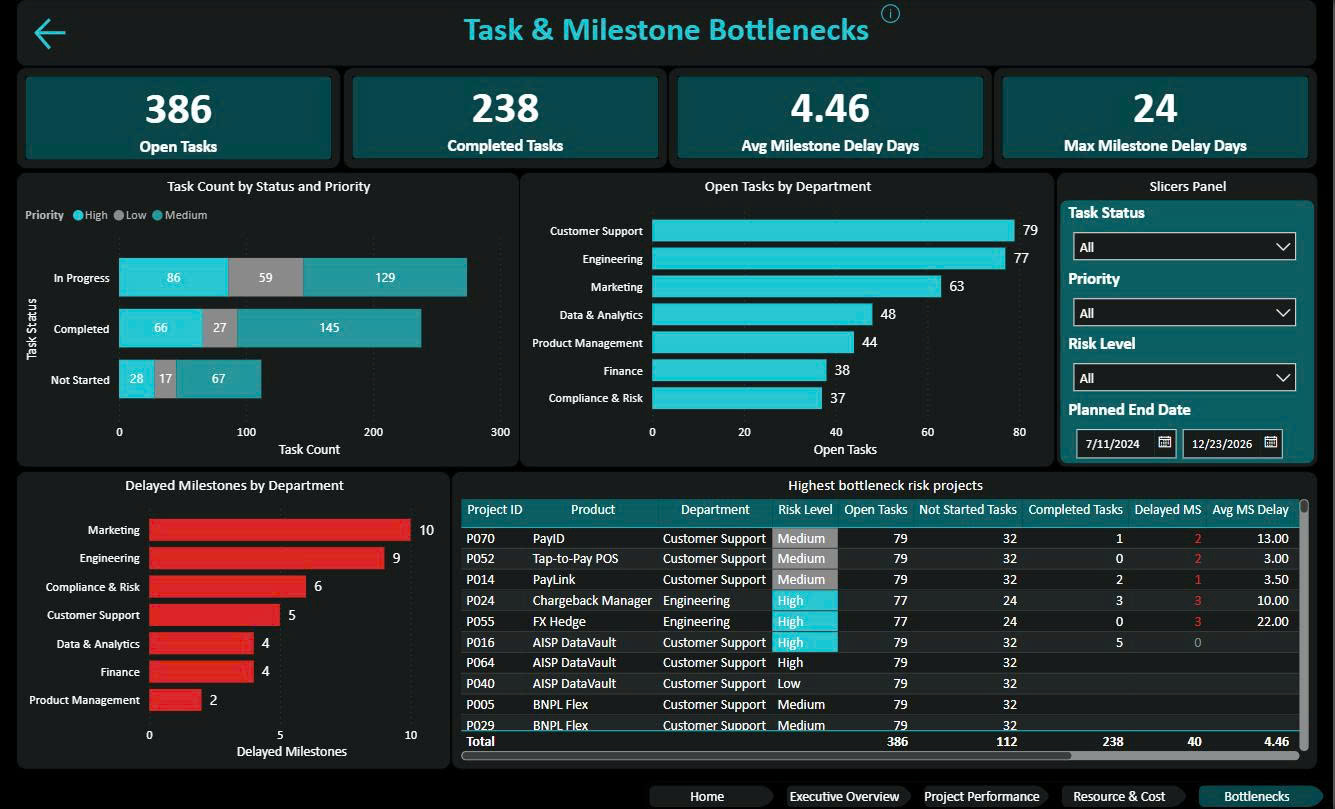

The dashboard page shown, as its layout file describes it:
{"tool":"powerbi","page":{"name":"Bottlenecks","canvas":[1280,780],"ordinal":4},"visuals":[{"type":"textbox","box":[15.6,0,1249.8,65.2],"z":0},{"type":"cardVisual","fields":{"Data":["KPI_Measures.Open Tasks"]},"box":[15.6,65.2,312,98.2],"z":1000},{"type":"cardVisual","fields":{"Data":["KPI_Measures.Completed Tasks"]},"box":[329.1,65,312,98],"z":2000},{"type":"cardVisual","fields":{"Data":["KPI_Measures.Avg Milestone Delay Days"]},"box":[642.1,65,312,98],"z":3000},{"type":"cardVisual","fields":{"Data":["KPI_Measures.Max Milestone Delay Days"]},"box":[954.1,65,312,98],"z":4000},{"type":"barChart","title":"Task Count by Status and Priority","fields":{"Category":["fact_task_performance.task_status"],"Y":["KPI_Measures.Total Tasks"],"Series":["fact_task_performance.priority"]},"box":[15,166,484,284],"z":5000},{"type":"barChart","title":"Open Tasks by Department","fields":{"Category":["dim_department.department_name"],"Y":["KPI_Measures.Open Tasks"]},"box":[499,166,515,284],"z":6000},{"type":"barChart","title":"Delayed Milestones by Department","fields":{"Category":["dim_department.department_name"],"Y":["KPI_Measures.Delayed Milestones"]},"box":[15,453,418,287],"z":7000},{"type":"tableEx","title":"Highest bottleneck risk projects","fields":{"Values":["dim_project.project_id","dim_project.product_name","dim_department.department_name","dim_project.risk_level","KPI_Measures.Open Tasks","KPI_Measures.Not Started Tasks","KPI_Measures.Completed Tasks","KPI_Measures.Delayed Milestones","KPI_Measures.Avg Milestone Delay Days","KPI_Measures.Max Milestone Delay Days","KPI_Measures.Task Hour Variance","KPI_Measures.Bottleneck Score"]},"box":[433,453,833,287],"z":8000},{"type":"shape","title":"Slicers Panel","box":[1014,166,252,284],"z":9000},{"type":"slicer","title":"Task Status","fields":{"Values":["fact_task_performance.task_status"]},"box":[1021,195.4,234.3,62.8],"z":10000},{"type":"slicer","title":"Priority","fields":{"Values":["fact_task_performance.priority"]},"box":[1021,258.3,234.3,62.8],"z":11000},{"type":"slicer","title":"Risk Level","fields":{"Values":["dim_project.risk_level"]},"box":[1021,321.1,234.3,62.8],"z":12000},{"type":"slicer","title":"Planned End Date","fields":{"Values":["dim_project.planned_end_date"]},"box":[1021,384,234.3,62.8],"z":13000},{"type":"pageNavigator","box":[620,751,660,29],"z":14000},{"type":"actionButton","box":[29,13,121,40],"z":15000},{"type":"actionButton","title":"BTN Info Open","box":[841,0,28,28],"z":16000}]}

Visuals, with their boxes in screenshot pixels (x1, y1, x2, y2), scaled from the page's 1280x780 canvas onto the 1335x809 screenshot:
textbox: <region>16, 0, 1320, 68</region>
cardVisual - KPI_Measures.Open Tasks: <region>16, 68, 342, 169</region>
cardVisual - KPI_Measures.Completed Tasks: <region>343, 67, 669, 169</region>
cardVisual - KPI_Measures.Avg Milestone Delay Days: <region>670, 67, 995, 169</region>
cardVisual - KPI_Measures.Max Milestone Delay Days: <region>995, 67, 1321, 169</region>
"Task Count by Status and Priority" barChart: <region>16, 172, 520, 467</region>
"Open Tasks by Department" barChart: <region>520, 172, 1058, 467</region>
"Delayed Milestones by Department" barChart: <region>16, 470, 452, 768</region>
"Highest bottleneck risk projects" tableEx: <region>452, 470, 1320, 768</region>
"Slicers Panel" shape: <region>1058, 172, 1320, 467</region>
"Task Status" slicer: <region>1065, 203, 1309, 268</region>
"Priority" slicer: <region>1065, 268, 1309, 333</region>
"Risk Level" slicer: <region>1065, 333, 1309, 398</region>
"Planned End Date" slicer: <region>1065, 398, 1309, 463</region>
pageNavigator: <region>647, 779, 1334, 808</region>
actionButton: <region>30, 13, 156, 55</region>
"BTN Info Open" actionButton: <region>877, 0, 906, 29</region>
